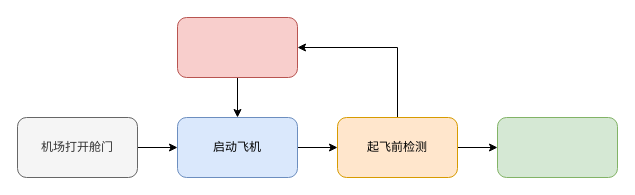
This 635x195 diagram has some shape labels left out. The centre of each missing label's shape, as x and y in pixels:
启动飞机失败: the point at 237,47
起飞: the point at 557,147
